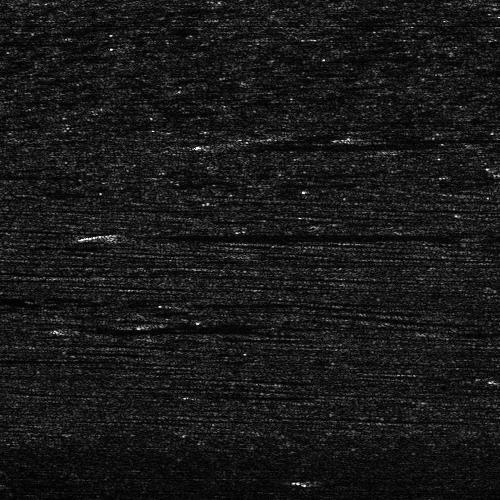object: (184, 141, 257, 148), (334, 135, 387, 142)
shadow: (221, 141, 407, 148), (361, 135, 500, 142)
